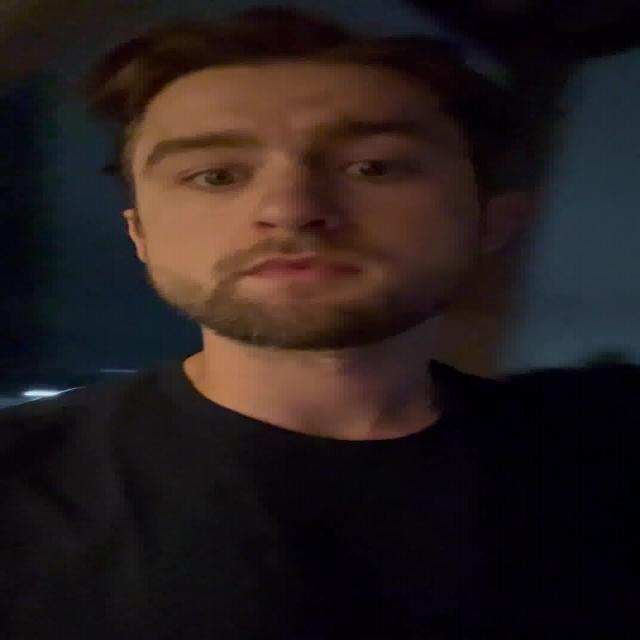earlobe: (473, 192, 530, 256), (120, 210, 151, 265)
